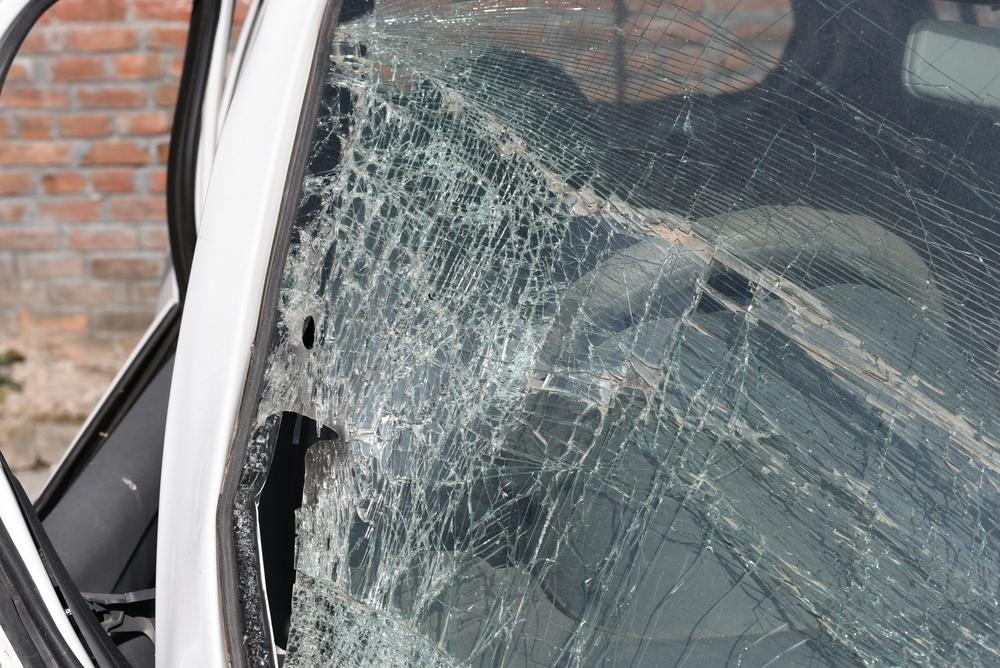glass shatter: (234, 0, 1000, 668)
